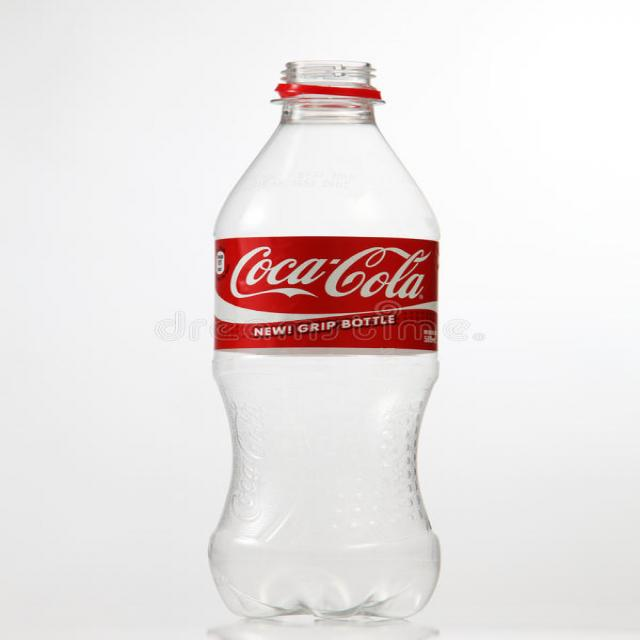Botella Plastica: (204, 55, 451, 622)
